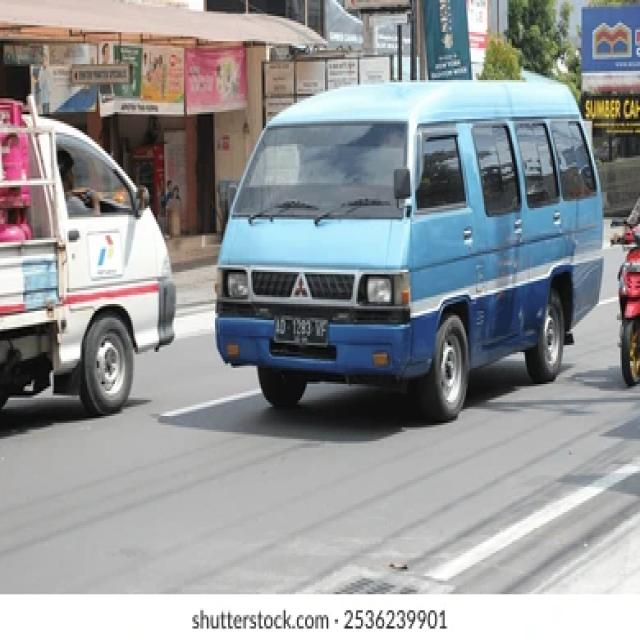mitsubishi: (290, 276, 312, 302)
